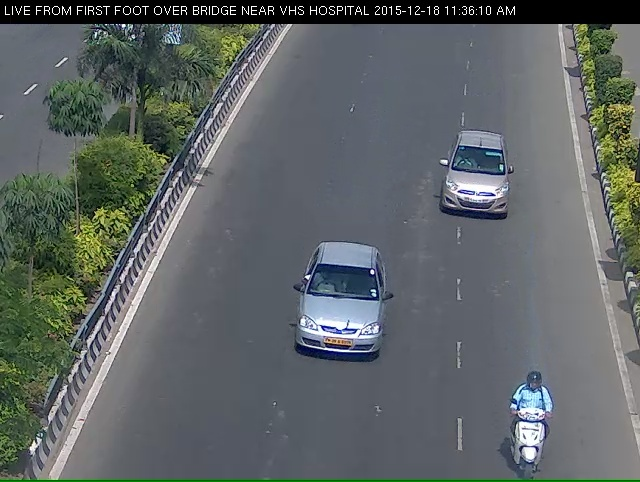Car: (273, 251, 402, 424), (419, 139, 539, 239)
Person: (501, 403, 568, 482)
